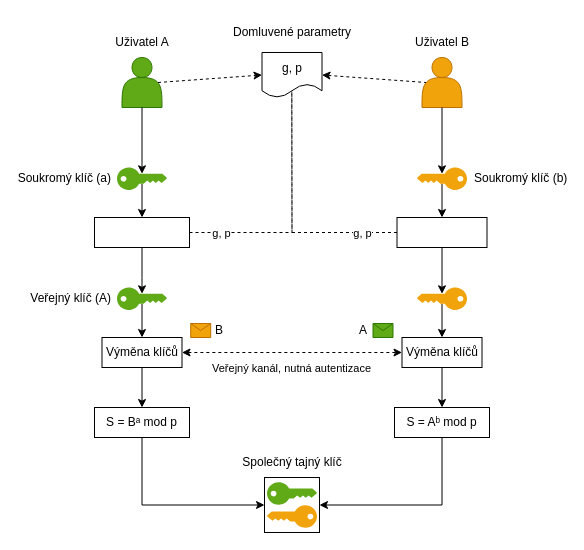
The diagram is 584 pixels wide and 550 high, and some of its shapes have lost their labels. The shapes that lost their labels are listed below. From the top down, each one's centre as x and y in pixels, then its label:
At (142,232): "A = gᵃ mod p".
At (441,232): "B = gᵇ mod p".
At (441,298): "Veřejný klíč (B)".
